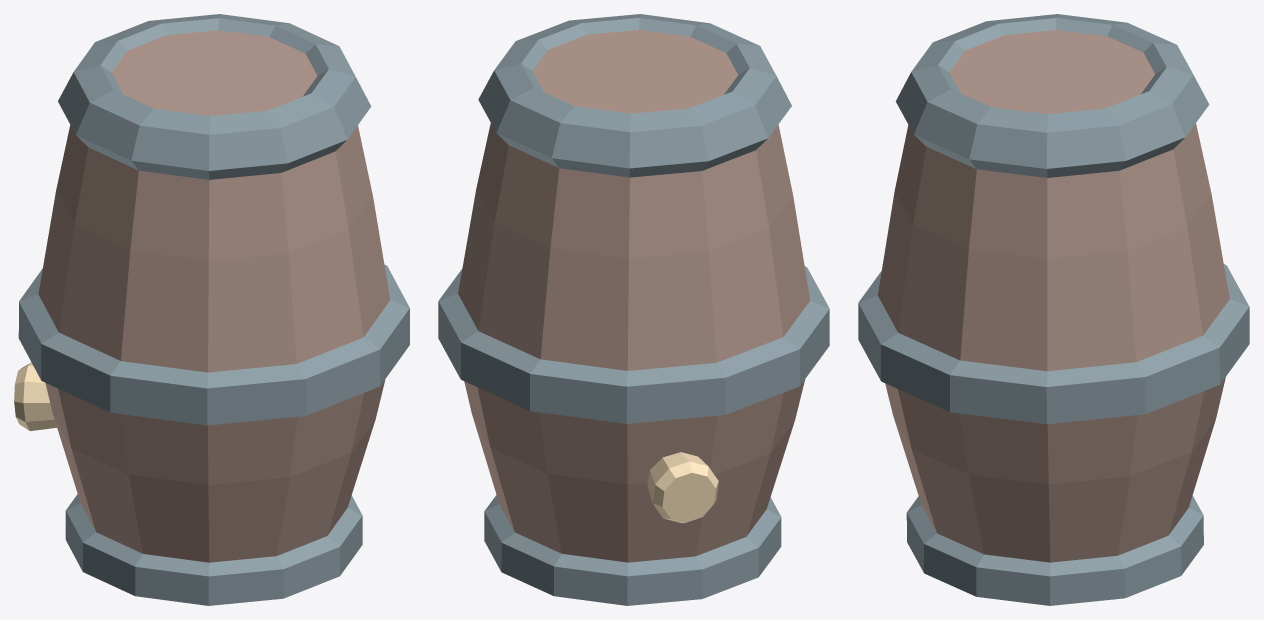
File: barrel.glb
3 views of the same model, side by side, from view 1: azimuth 30°, elevation 25°; view 2: azimuth 150°, elevation 25°; view 3: azimuth 270°, elevation 25° (orthographic).
Visible parts, largest first — view 1: model.001; view 2: model.001; view 3: model.001.
Boxes of the visible parts, x1,y1,x2,y2 form: model.001: (14, 14, 409, 605); model.001: (438, 14, 829, 605); model.001: (858, 14, 1249, 605).
Bounding box in the file's own units: 0.4137 × 0.5581 × 0.4139.
